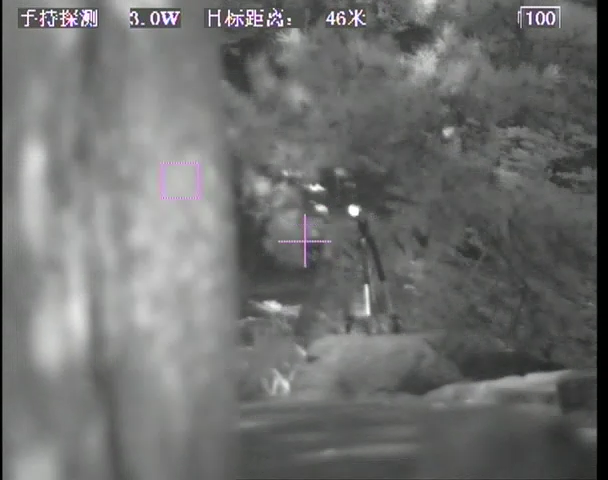my: (344, 202, 361, 218)
